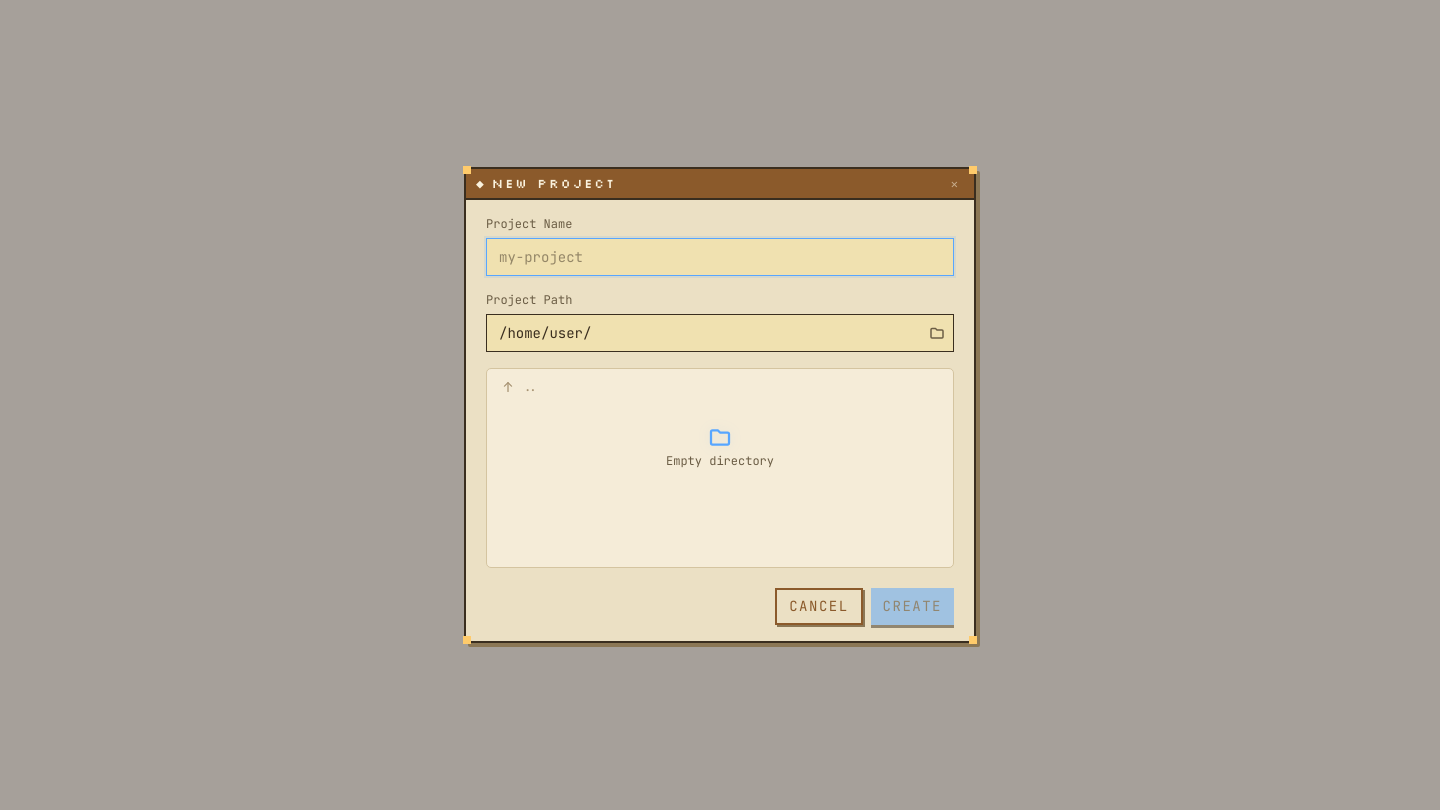
Test: CreateProjectModal native folder picker › normalizes Windows separators and adds a trailing slash
Expected: the field with placeholder "/home/user" holds "/home/user/", [486,314,954,352]
Click the button with test id "pick-directory": (937, 333) [925,321,949,345]
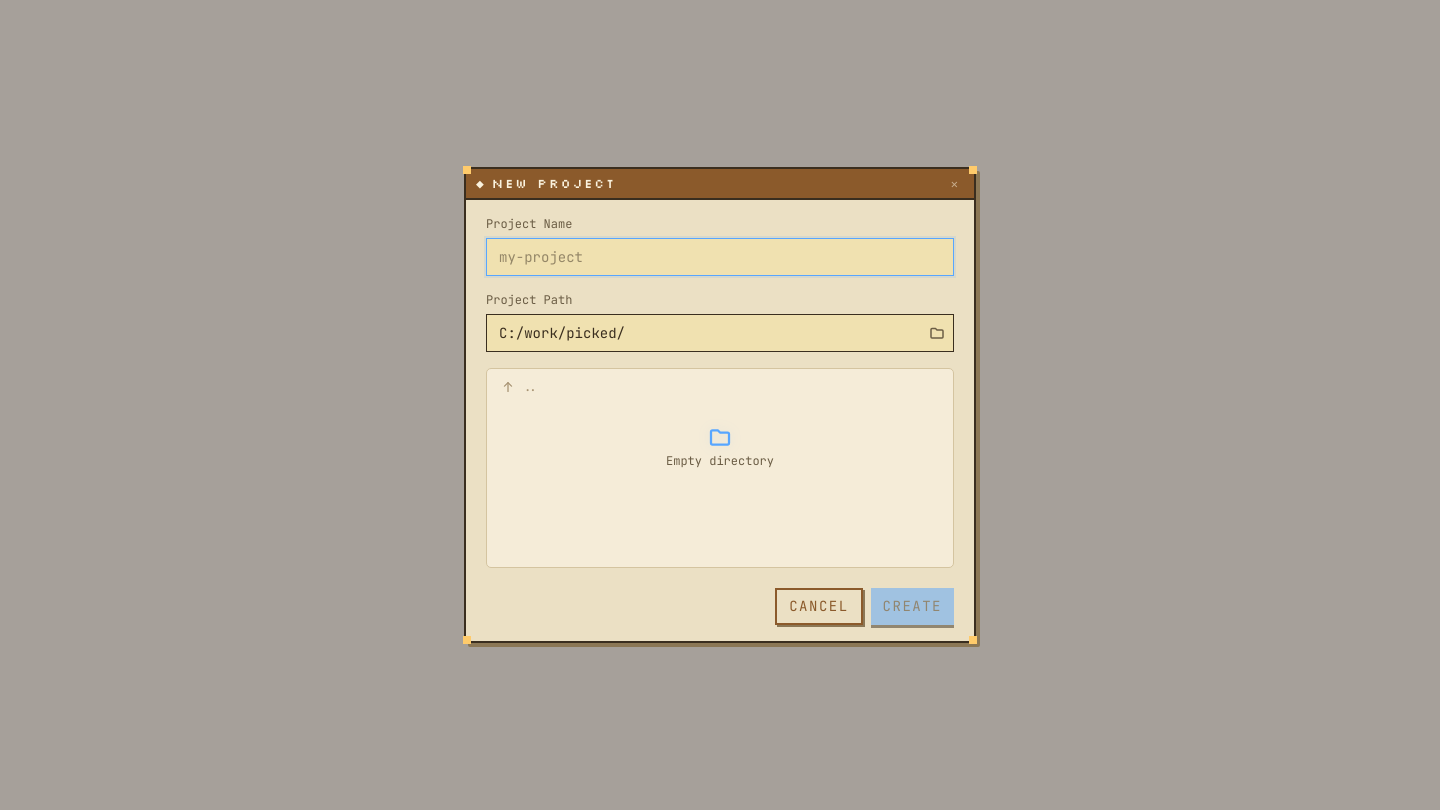
Expected: the field with placeholder "/home/user" holds "C:/work/picked/", [486,314,954,352]
